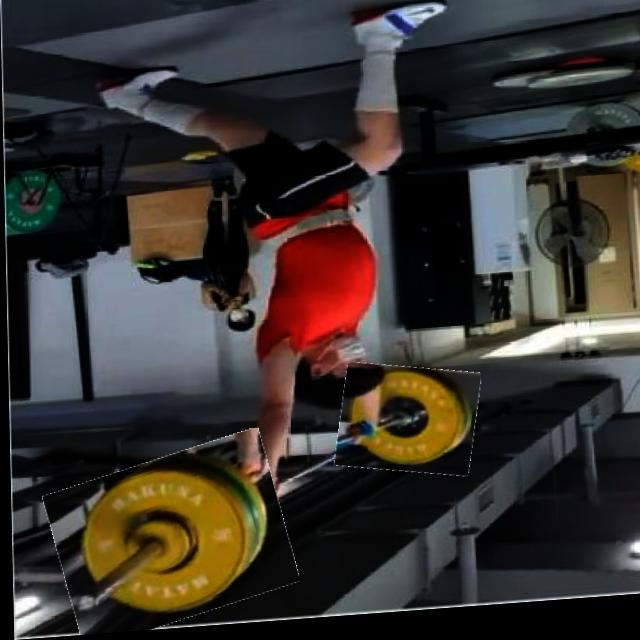barbell: (48, 443, 290, 639), (334, 366, 478, 487)
